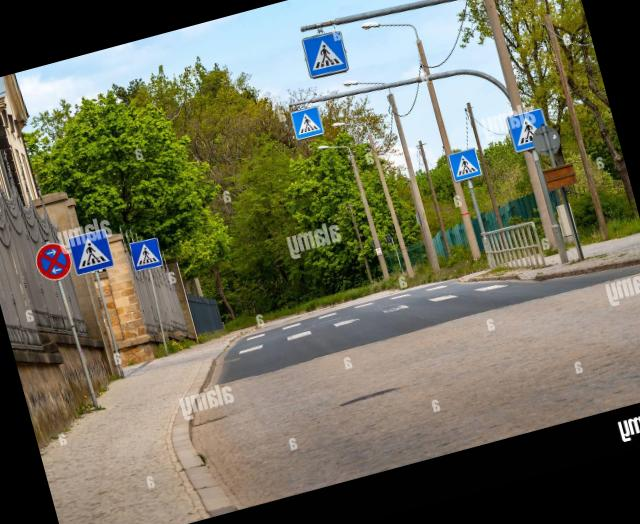crosswalk-sign: (300, 29, 352, 81), (68, 228, 116, 277), (507, 108, 553, 154), (129, 237, 166, 274), (448, 147, 484, 183), (291, 106, 327, 142)
